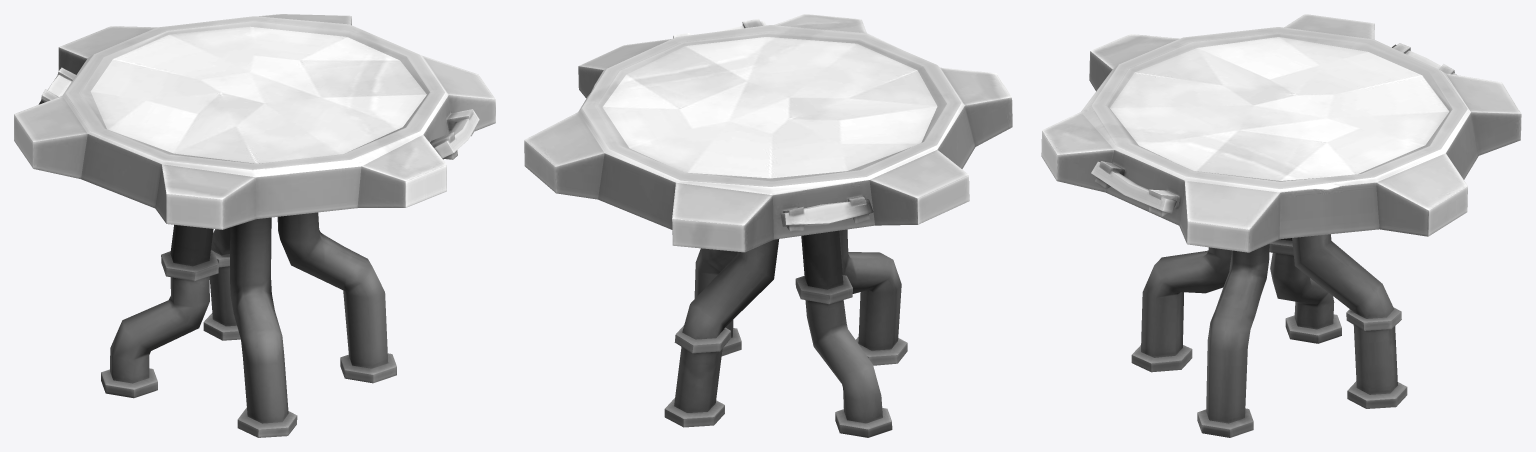
File: obj_table02_alt.gltf
The picture shows the model from 3 angles, left to right: view 1: azimuth 30°, elevation 25°; view 2: azimuth 150°, elevation 25°; view 3: azimuth 270°, elevation 25°; orthographic projection.
Visible parts, largest first — view 1: obj_table02_alt; view 2: obj_table02_alt; view 3: obj_table02_alt.
Boxes of the visible parts, box(x1,y1,x2,y2) form: obj_table02_alt: box(14, 14, 495, 437); obj_table02_alt: box(524, 14, 1012, 437); obj_table02_alt: box(1041, 14, 1521, 437).
Size of what is drawn, in the model's own units: 0.9536 by 0.6138 by 0.9575.
Materials: 1 (1 with a texture image).
